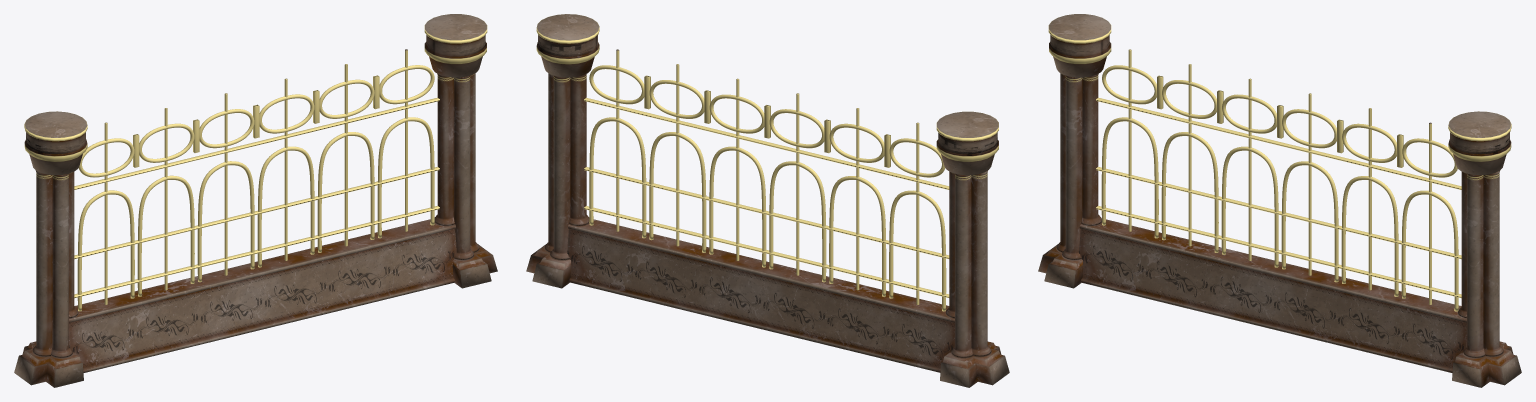
The picture shows the model from 3 angles, left to right: view 1: azimuth 30°, elevation 25°; view 2: azimuth 150°, elevation 25°; view 3: azimuth 330°, elevation 25°; orthographic projection.
Visible parts, largest first — view 1: prefix_polySurface525, prefix_polySurface595, prefix_polySurface594, prefix_polySurface588, prefix_polySurface589, prefix_polySurface539, prefix_polySurface540, prefix_polySurface560, prefix_polySurface583, prefix_pCylinder15, prefix_pCylinder18, prefix_pCylinder16 (+15 smaller); view 2: prefix_polySurface525, prefix_polySurface595, prefix_polySurface588, prefix_polySurface594, prefix_polySurface589, prefix_polySurface539, prefix_polySurface540, prefix_polySurface560, prefix_polySurface583, prefix_pCylinder18, prefix_pCylinder16, prefix_pCylinder15 (+15 smaller); view 3: prefix_polySurface525, prefix_polySurface595, prefix_polySurface588, prefix_polySurface594, prefix_polySurface583, prefix_polySurface539, prefix_polySurface540, prefix_polySurface560, prefix_polySurface589, prefix_pCylinder16, prefix_pCylinder17, prefix_pCylinder14 (+15 smaller).
Part boxes in pixels (box(x1,y1,x2,y2)): prefix_polySurface525: box(69, 219, 456, 372); prefix_polySurface595: box(32, 73, 479, 358); prefix_polySurface594: box(24, 111, 87, 175); prefix_polySurface588: box(424, 14, 487, 77); prefix_polySurface589: box(14, 341, 83, 387); prefix_polySurface539: box(74, 97, 439, 189); prefix_polySurface540: box(74, 205, 439, 298); prefix_polySurface560: box(74, 167, 439, 259); prefix_polySurface583: box(452, 244, 497, 288); prefix_pCylinder15: box(197, 161, 254, 282); prefix_pCylinder18: box(377, 117, 434, 238); prefix_pCylinder16: box(257, 146, 314, 267); prefix_polySurface525: box(567, 219, 954, 372); prefix_polySurface595: box(544, 73, 991, 358); prefix_polySurface588: box(536, 14, 599, 77); prefix_polySurface594: box(936, 111, 998, 175); prefix_polySurface589: box(940, 341, 1009, 387); prefix_polySurface539: box(584, 97, 949, 189); prefix_polySurface540: box(584, 206, 949, 297); prefix_polySurface560: box(584, 167, 949, 258); prefix_polySurface583: box(526, 244, 571, 288); prefix_pCylinder18: box(589, 117, 646, 238); prefix_pCylinder16: box(709, 146, 766, 267); prefix_pCylinder15: box(769, 161, 826, 282); prefix_polySurface525: box(1078, 218, 1466, 372); prefix_polySurface595: box(1056, 73, 1503, 358); prefix_polySurface588: box(1448, 111, 1511, 175); prefix_polySurface594: box(1048, 14, 1111, 77); prefix_polySurface583: box(1452, 341, 1521, 387); prefix_polySurface539: box(1096, 97, 1461, 189); prefix_polySurface540: box(1096, 205, 1461, 298); prefix_polySurface560: box(1096, 167, 1461, 259); prefix_polySurface589: box(1038, 244, 1083, 288); prefix_pCylinder16: box(1281, 161, 1338, 282); prefix_pCylinder17: box(1341, 176, 1398, 296); prefix_pCylinder14: box(1161, 132, 1218, 252).
Size of the model in its own units: 7.88 by 3.97 by 1.
Materials: 1 (1 with a texture image).
